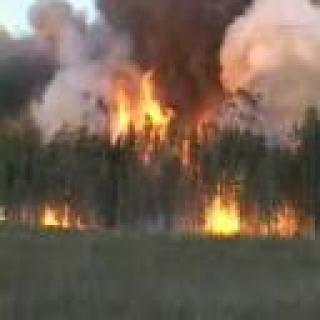fire: (103, 54, 180, 155), (211, 183, 248, 235), (37, 195, 73, 231), (276, 204, 302, 235)
